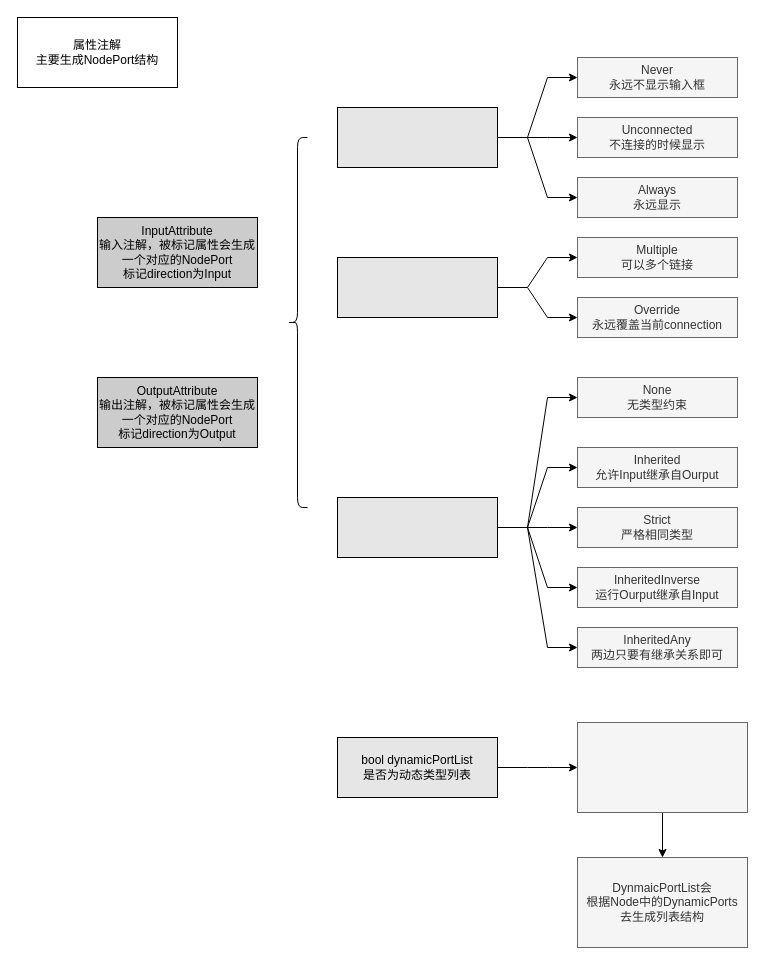
Some shapes in this 765 by 965 pixel diagram are drawn without their labels. The shapes that lost their labels are listed below. From the top down, each one's centre as x and y in pixels, then its label:
At (x=417, y=137): "ShowBackingValue backingValue 端口属性框显示的方式".
At (x=417, y=287): "ConnectionType connectionType 链接方式".
At (x=417, y=527): "TypeConstraint typeConstraint 类型约束".
At (x=662, y=767): "如果为true 标识动态列表 在绘制GUI的时候会调用 DynamicPortList".
